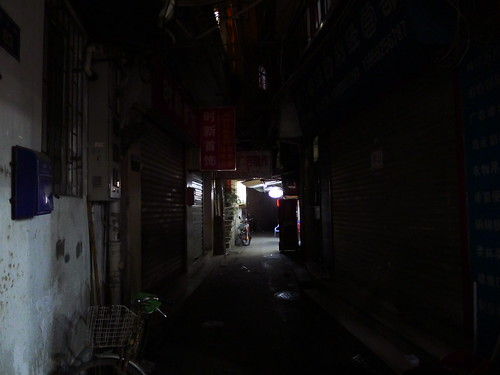building: (1, 1, 230, 375), (300, 1, 500, 372)
sign: (197, 98, 237, 177)
